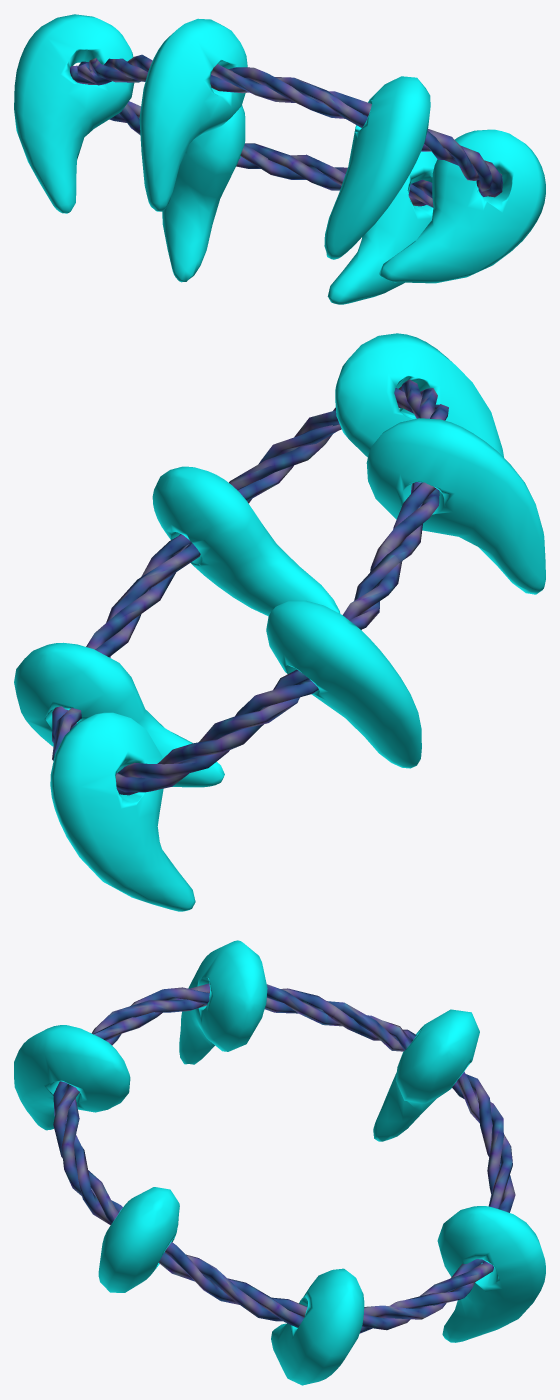
File: Bracelet.fbx
The picture shows the model from 3 angles, top to bottom: view 1: azimuth 30°, elevation 25°; view 2: azimuth 150°, elevation 25°; view 3: azimuth 270°, elevation 25°; orthographic projection. The views are drawn at different scales.
Visible parts, largest first — view 1: Bracelet; view 2: Bracelet; view 3: Bracelet.
Part boxes in pixels (x1,y1,x2,y2): Bracelet: [14, 14, 545, 304]; Bracelet: [14, 333, 545, 911]; Bracelet: [14, 940, 545, 1385].
Bounding box in the file's own units: 5.63 × 5.06 × 7.01.
